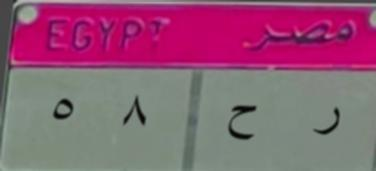5: (46, 94, 80, 125)
7aa: (221, 94, 262, 150)
8: (120, 87, 150, 132)
raa: (311, 99, 343, 140)
